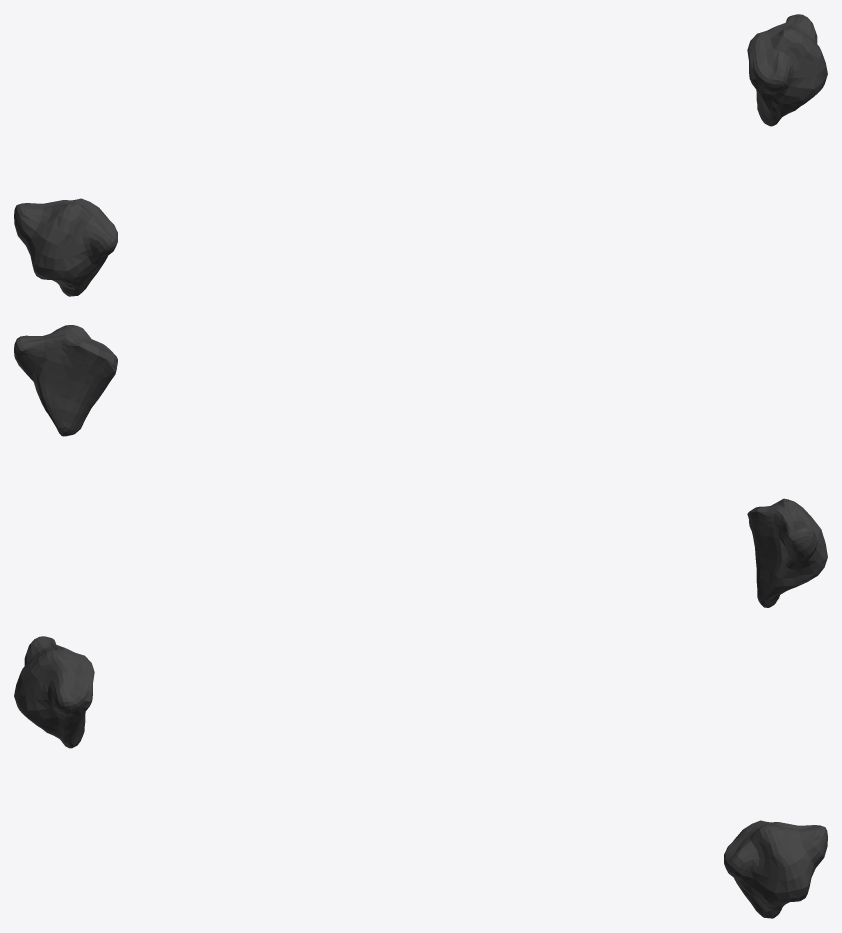
The model's file is b_patella_L_LO.glb.
The picture shows the model from 3 angles, top to bottom: view 1: azimuth 30°, elevation 25°; view 2: azimuth 150°, elevation 25°; view 3: azimuth 330°, elevation 25°; orthographic projection.
Parts seen in each view (by area): view 1: b_patella_L_LO; view 2: b_patella_L_LO; view 3: b_patella_L_LO.
Part boxes in pixels (x1,y1,x2,y2): b_patella_L_LO: (14, 14, 827, 296); b_patella_L_LO: (14, 325, 827, 607); b_patella_L_LO: (14, 636, 827, 918).
Bounding box in the file's own units: 0.00545 × 0.000657 × 0.000486.
1 material, 1 textured.
